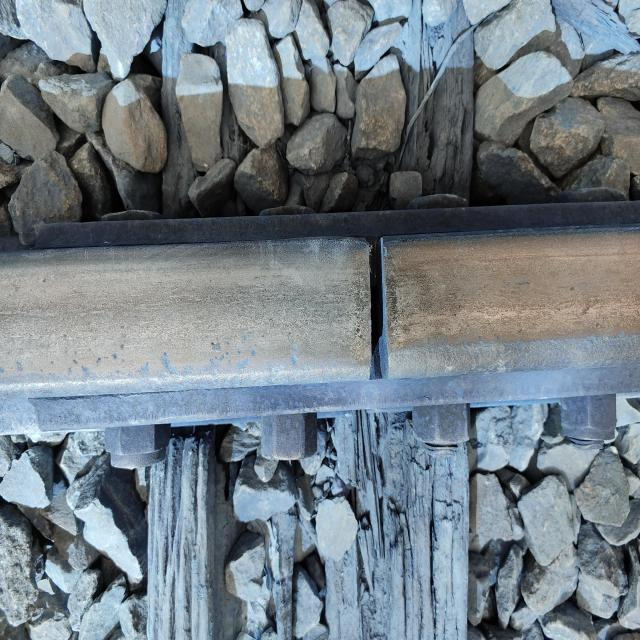crack: (338, 212, 407, 394)
